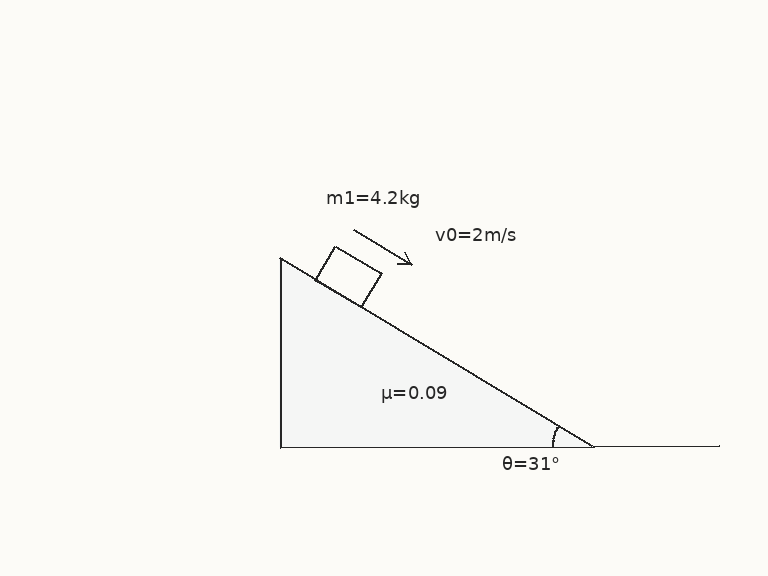block: (313, 243, 383, 308)
ramp: (277, 256, 595, 448)
